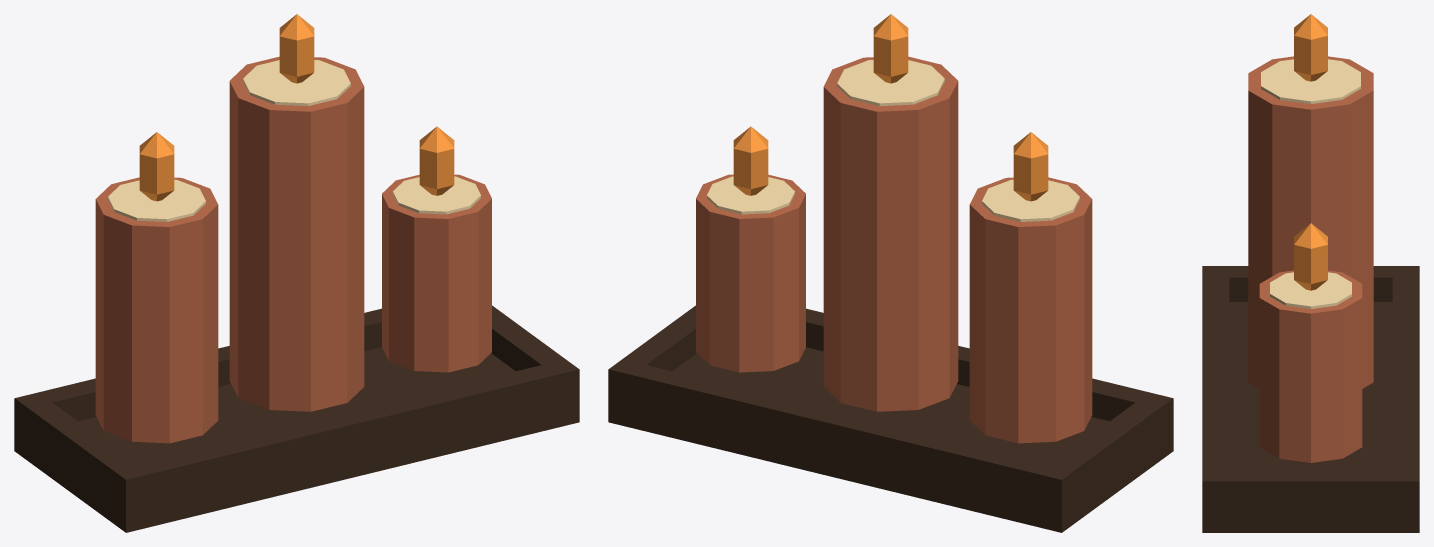
File: SM_LPI_Light_Candle_02.fbx
The picture shows the model from 3 angles, left to right: view 1: azimuth 30°, elevation 25°; view 2: azimuth 150°, elevation 25°; view 3: azimuth 270°, elevation 25°; orthographic projection. The views are drawn at different scales.
Visible parts, largest first — view 1: SM_LPI_Light_Candle_02; view 2: SM_LPI_Light_Candle_02; view 3: SM_LPI_Light_Candle_02.
Part boxes in pixels (x1,y1,x2,y2): SM_LPI_Light_Candle_02: [14, 14, 579, 532]; SM_LPI_Light_Candle_02: [608, 14, 1173, 532]; SM_LPI_Light_Candle_02: [1202, 14, 1419, 532].
Size of the model in its own units: 0.34 by 0.303 by 0.145.
